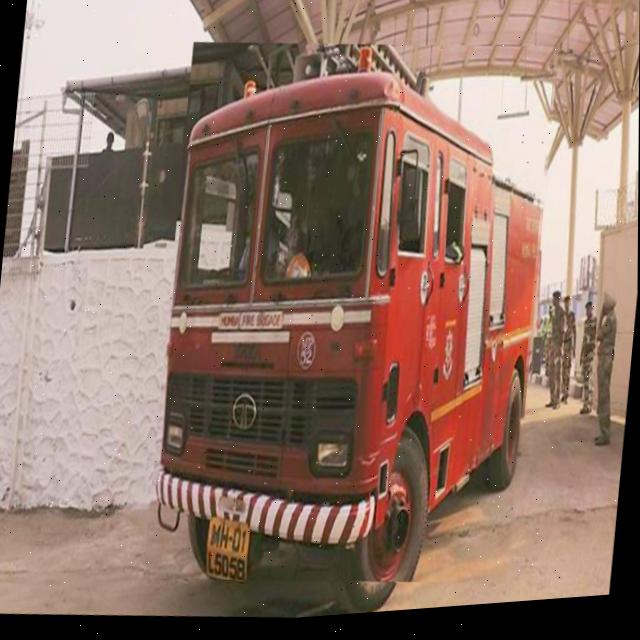Fire Truck: (144, 23, 558, 613)
